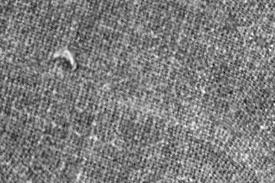snag: (50, 47, 80, 73)
